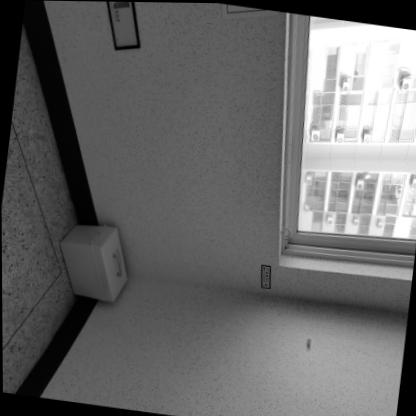DDL: (51, 218, 133, 307)
